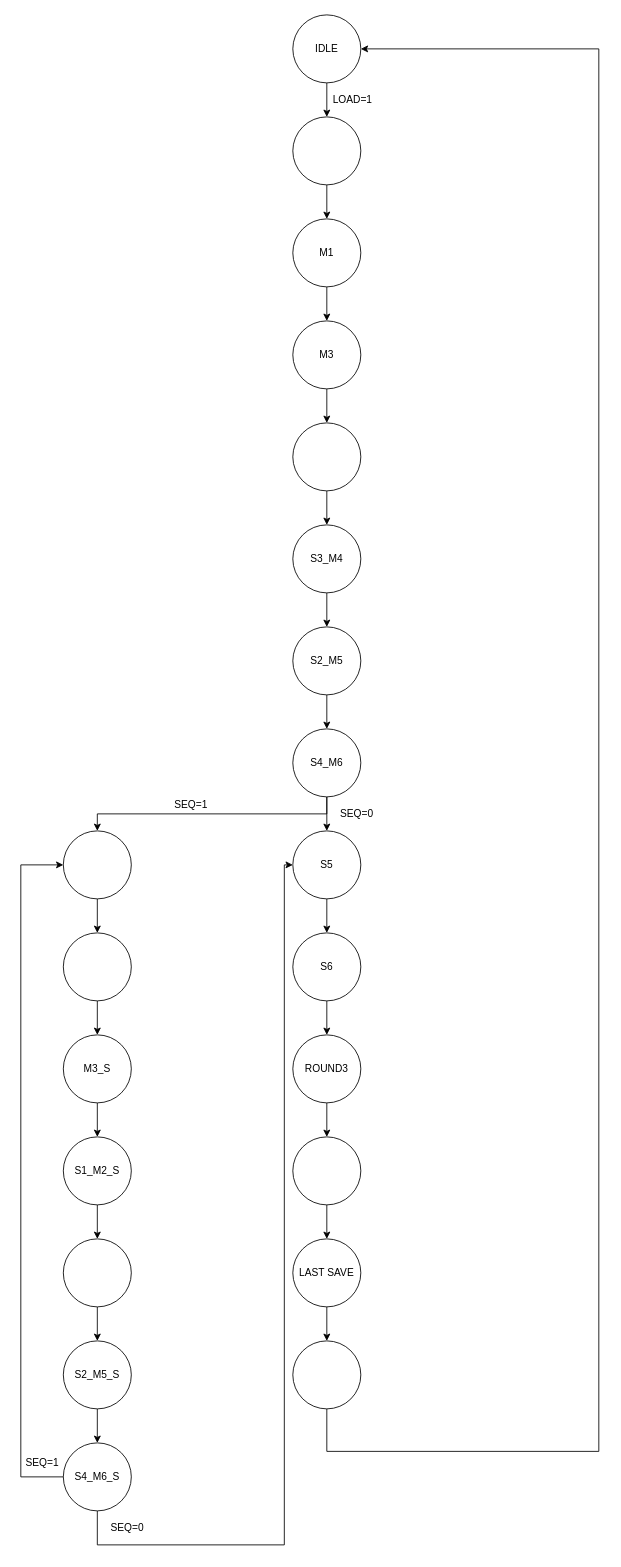
Some shapes in this 621 by 1567 pixel diagram are drawn without their labels. Each missing label, with the box of its shape:
DONE: (292, 1340, 361, 1409)
LOAD_ST: (292, 116, 361, 185)
LOAD_ST_S: (62, 830, 131, 899)
M1_S: (62, 932, 131, 1001)
ROUND4: (292, 1136, 361, 1205)
S1_M2: (292, 422, 361, 491)
S3_M4_S: (62, 1238, 131, 1307)
